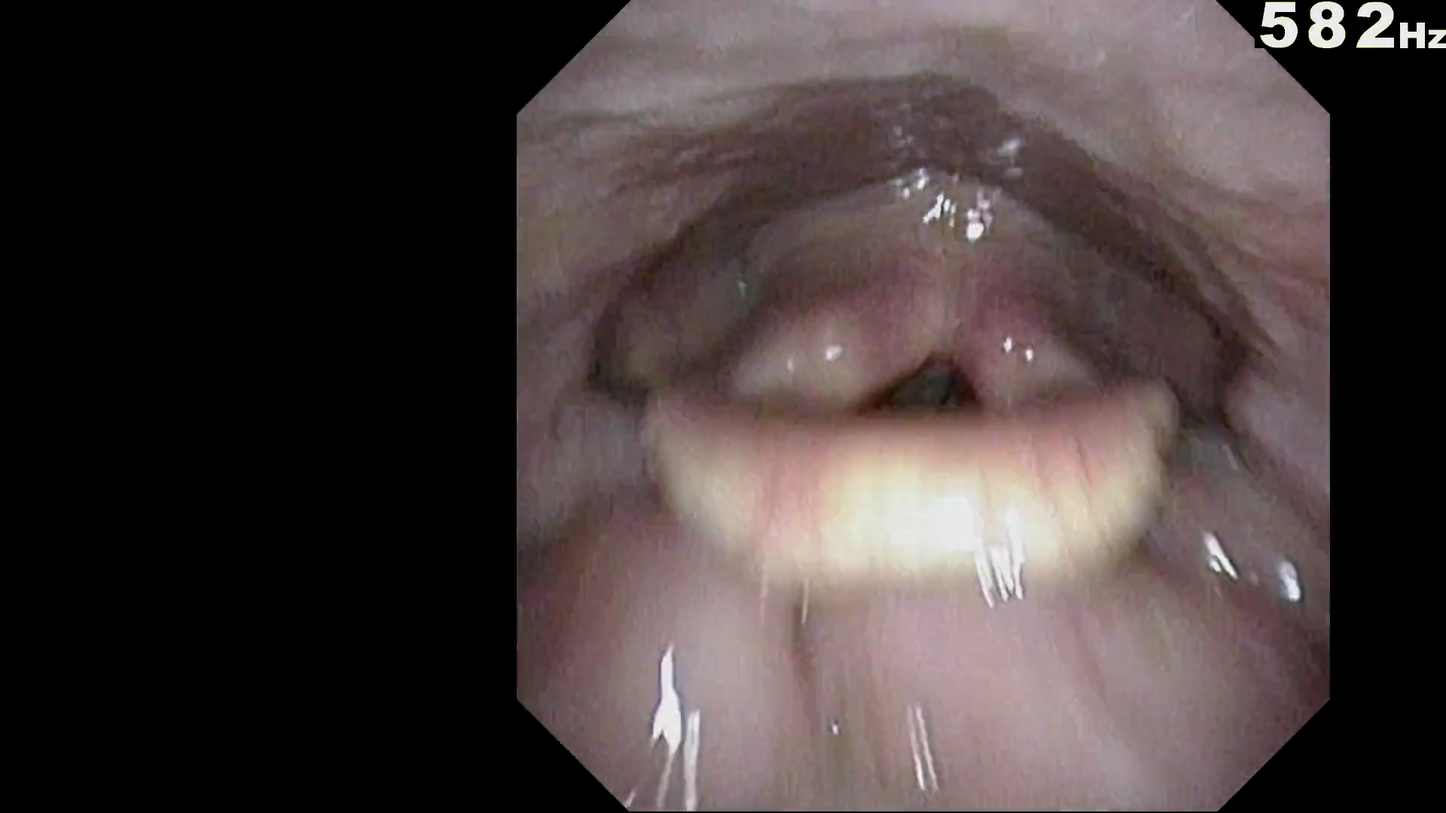epiglottis: (635, 330, 1180, 555)
trachea: (880, 330, 991, 453)
